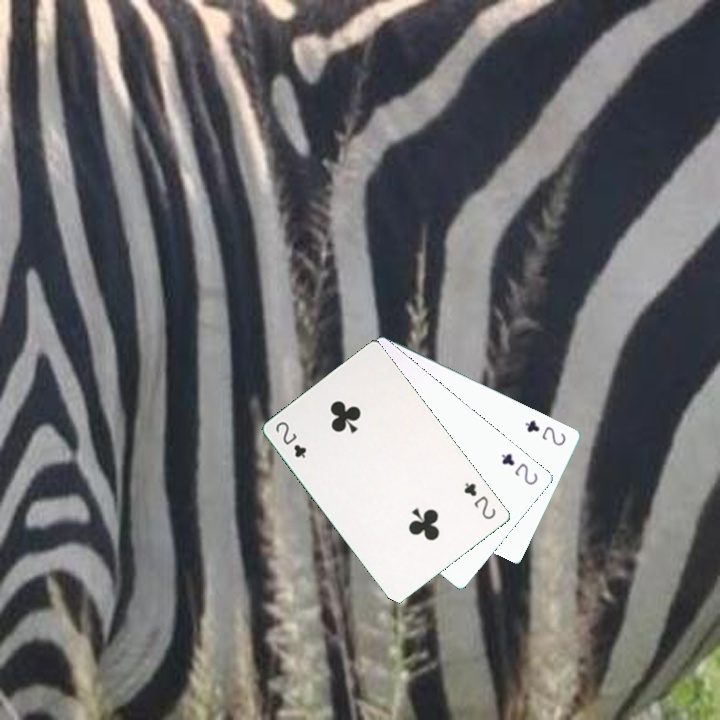2c: (497, 449, 541, 488), (460, 478, 499, 522), (271, 417, 309, 461), (521, 415, 568, 449)
